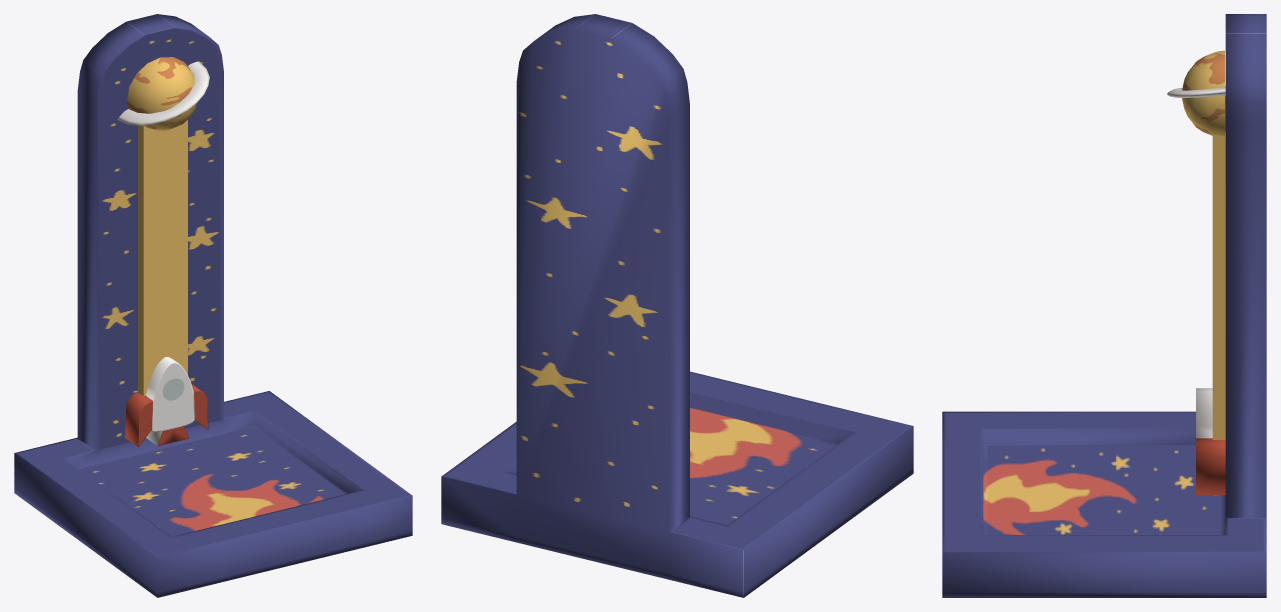
Rendered from Light_PressurePlate.fbx.
The picture shows the model from 3 angles, left to right: view 1: azimuth 30°, elevation 25°; view 2: azimuth 150°, elevation 25°; view 3: azimuth 270°, elevation 25°; orthographic projection. The views are drawn at different scales.
Parts seen in each view (by area): view 1: pp-wire; view 2: pp-wire; view 3: pp-wire.
Part boxes in pixels (x1=…): pp-wire: x1=14, y1=14, x2=412, y2=597; pp-wire: x1=441, y1=14, x2=913, y2=597; pp-wire: x1=942, y1=14, x2=1266, y2=597.
Size of the model in its own units: 166 by 276 by 162.
Materials: 2 (2 with a texture image).
